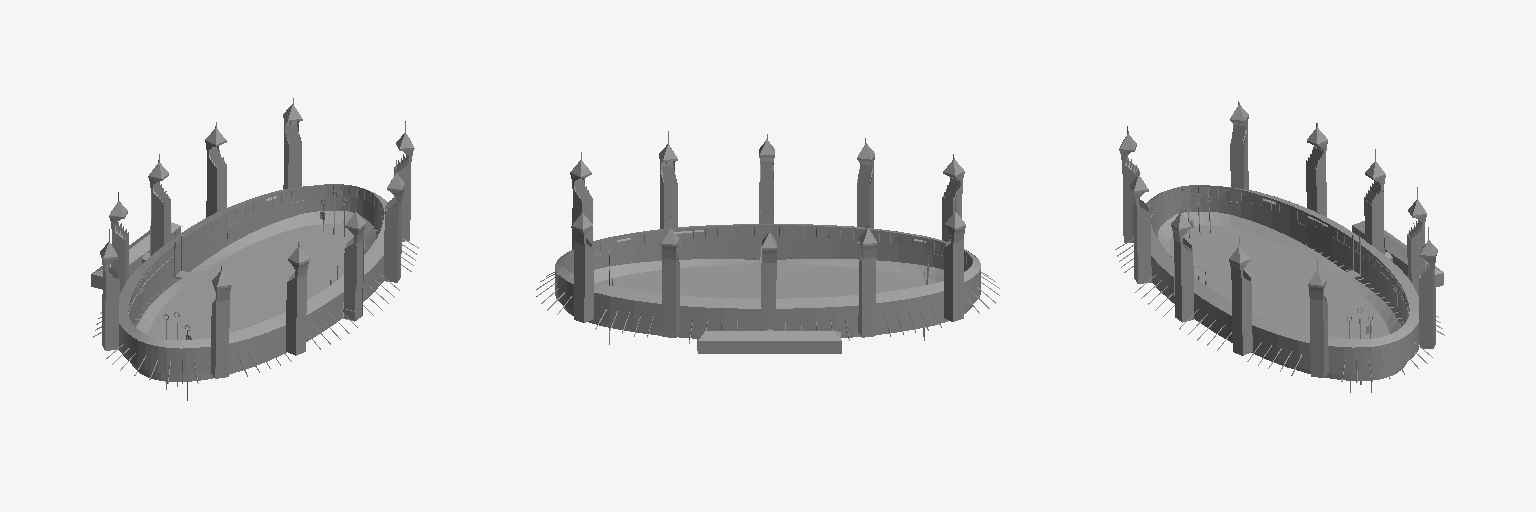
Rendered from SmallArena.obj.
The picture shows the model from 3 angles: view 1: azimuth 30°, elevation 25°; view 2: azimuth 150°, elevation 25°; view 3: azimuth 270°, elevation 25°; orthographic projection.
Visible parts, largest first — view 1: Null_DrawCall_0048, Null_DrawCall_0051, Null_DrawCall_0020, Null_DrawCall_0012, Null_DrawCall_0008, Null_DrawCall_0011, Null_DrawCall_0005, Null_DrawCall_0014, Null_DrawCall_0059, Null_DrawCall_0018, Null_DrawCall_0013, Null_DrawCall_0007 (+9 smaller); view 2: Null_DrawCall_0048, Null_DrawCall_0051, Null_DrawCall_0052, Null_DrawCall_0053, Null_DrawCall_0009, Null_DrawCall_0006, Null_DrawCall_0010, Null_DrawCall_0007, Null_DrawCall_0014, Null_DrawCall_0019, Null_DrawCall_0013, Null_DrawCall_0005 (+14 smaller); view 3: Null_DrawCall_0048, Null_DrawCall_0051, Null_DrawCall_0020, Null_DrawCall_0008, Null_DrawCall_0013, Null_DrawCall_0004, Null_DrawCall_0011, Null_DrawCall_0014, Null_DrawCall_0017, Null_DrawCall_0078, Null_DrawCall_0005, Null_DrawCall_0010 (+9 smaller).
Part boxes in pixels (bbox=[...]): Null_DrawCall_0048: bbox=[137, 211, 375, 340]; Null_DrawCall_0051: bbox=[119, 256, 383, 374]; Null_DrawCall_0020: bbox=[151, 194, 363, 320]; Null_DrawCall_0012: bbox=[236, 195, 350, 238]; Null_DrawCall_0008: bbox=[206, 158, 296, 355]; Null_DrawCall_0011: bbox=[111, 206, 398, 292]; Null_DrawCall_0005: bbox=[105, 164, 410, 350]; Null_DrawCall_0014: bbox=[130, 196, 379, 381]; Null_DrawCall_0059: bbox=[152, 186, 306, 348]; Null_DrawCall_0018: bbox=[212, 117, 298, 378]; Null_DrawCall_0013: bbox=[211, 132, 301, 377]; Null_DrawCall_0007: bbox=[206, 143, 308, 355]; Null_DrawCall_0048: bbox=[594, 259, 943, 298]; Null_DrawCall_0051: bbox=[555, 224, 980, 333]; Null_DrawCall_0052: bbox=[697, 329, 769, 353]; Null_DrawCall_0053: bbox=[769, 329, 841, 353]; Null_DrawCall_0009: bbox=[681, 236, 759, 259]; Null_DrawCall_0006: bbox=[774, 236, 852, 258]; Null_DrawCall_0010: bbox=[659, 157, 876, 337]; Null_DrawCall_0007: bbox=[662, 157, 874, 337]; Null_DrawCall_0014: bbox=[563, 236, 972, 338]; Null_DrawCall_0019: bbox=[760, 157, 776, 330]; Null_DrawCall_0013: bbox=[584, 188, 962, 322]; Null_DrawCall_0005: bbox=[572, 191, 952, 321]; Null_DrawCall_0048: bbox=[1158, 212, 1400, 338]; Null_DrawCall_0051: bbox=[1151, 186, 1419, 373]; Null_DrawCall_0020: bbox=[1174, 192, 1384, 322]; Null_DrawCall_0008: bbox=[1137, 207, 1424, 295]; Null_DrawCall_0013: bbox=[1122, 165, 1433, 348]; Null_DrawCall_0004: bbox=[1182, 196, 1296, 238]; Null_DrawCall_0011: bbox=[1242, 157, 1326, 355]; Null_DrawCall_0014: bbox=[1154, 197, 1406, 380]; Null_DrawCall_0017: bbox=[1232, 118, 1327, 377]; Null_DrawCall_0078: bbox=[1228, 187, 1386, 347]; Null_DrawCall_0005: bbox=[1230, 133, 1328, 377]; Null_DrawCall_0010: bbox=[1230, 142, 1327, 355].
Bounding box in the file's own units: 26.05 × 11.61 × 20.3.